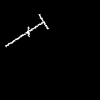double_crochet: (6, 14, 48, 45)
